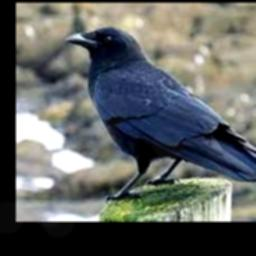Crow: (68, 26, 256, 201)
